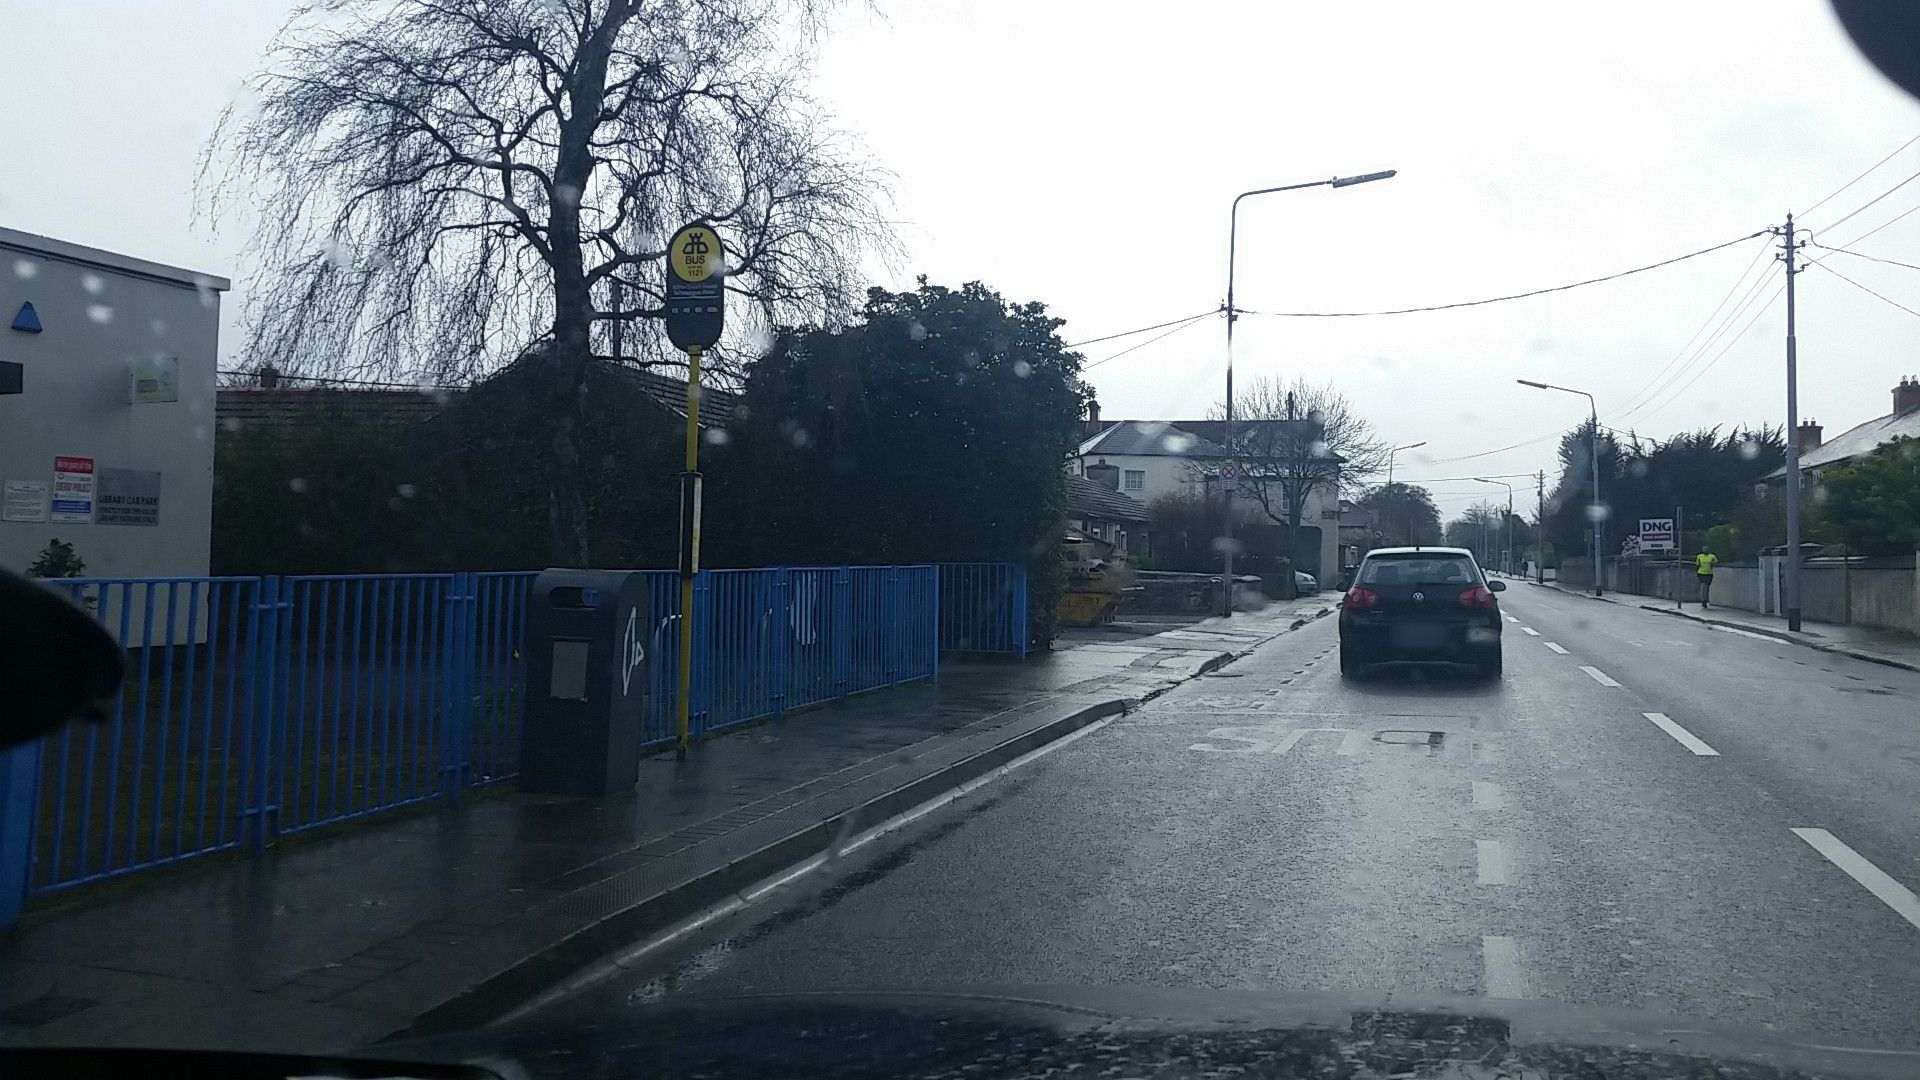property sign: (1633, 502, 1688, 556)
